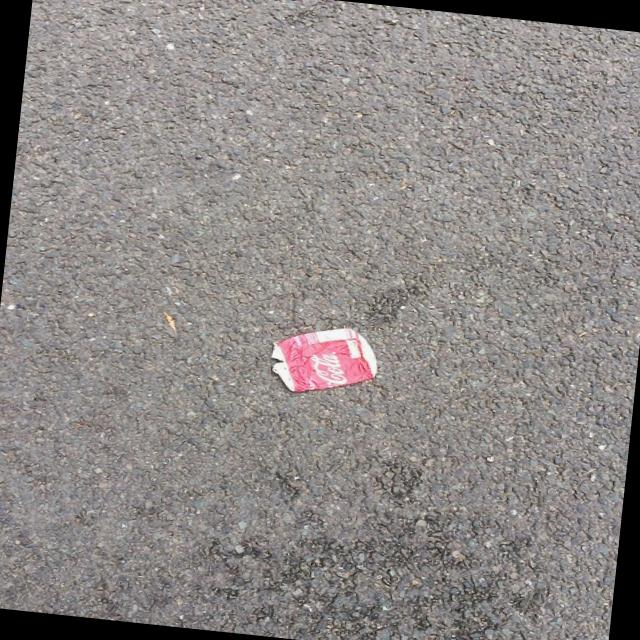Recycle: (264, 319, 382, 404)
